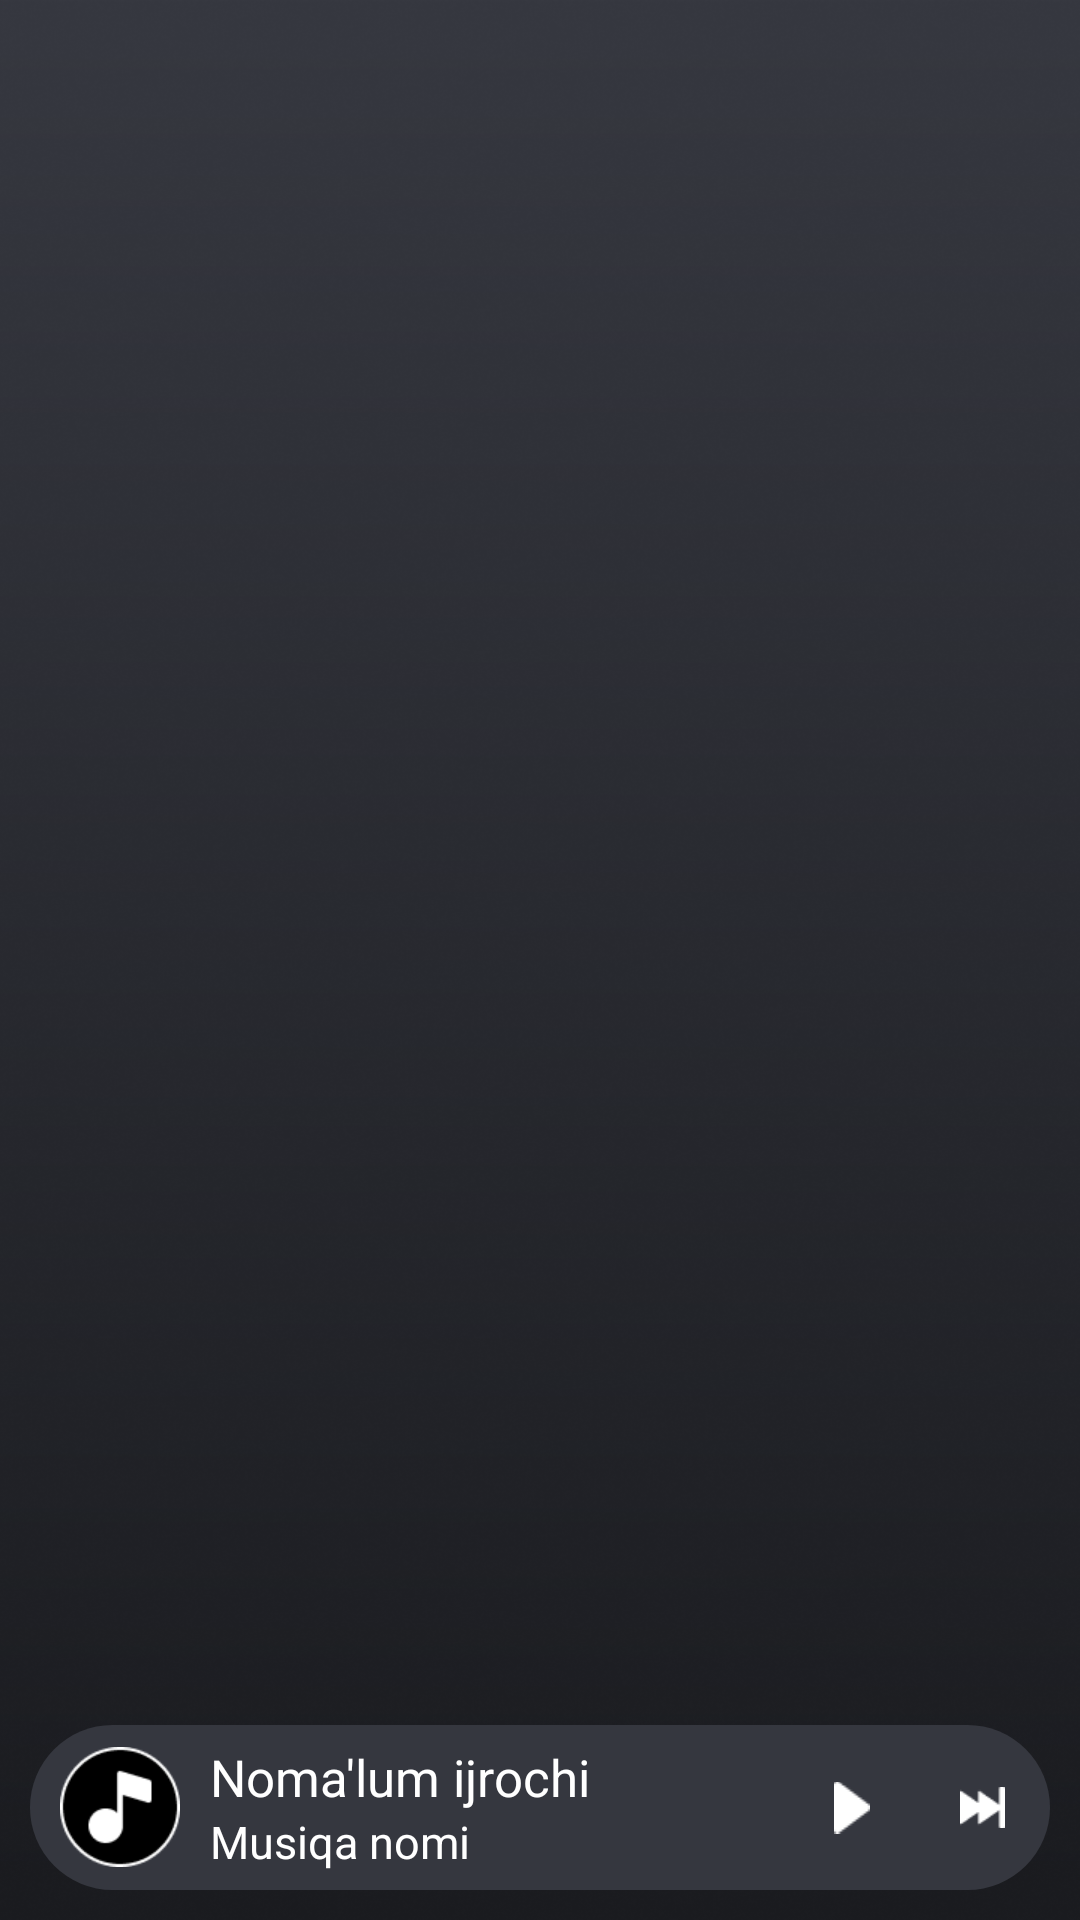

Where to tap for icons on this 1080x1920 app screen, as point (x, y):
music: point (120, 1807)
next: point (982, 1807)
play: point (852, 1808)
